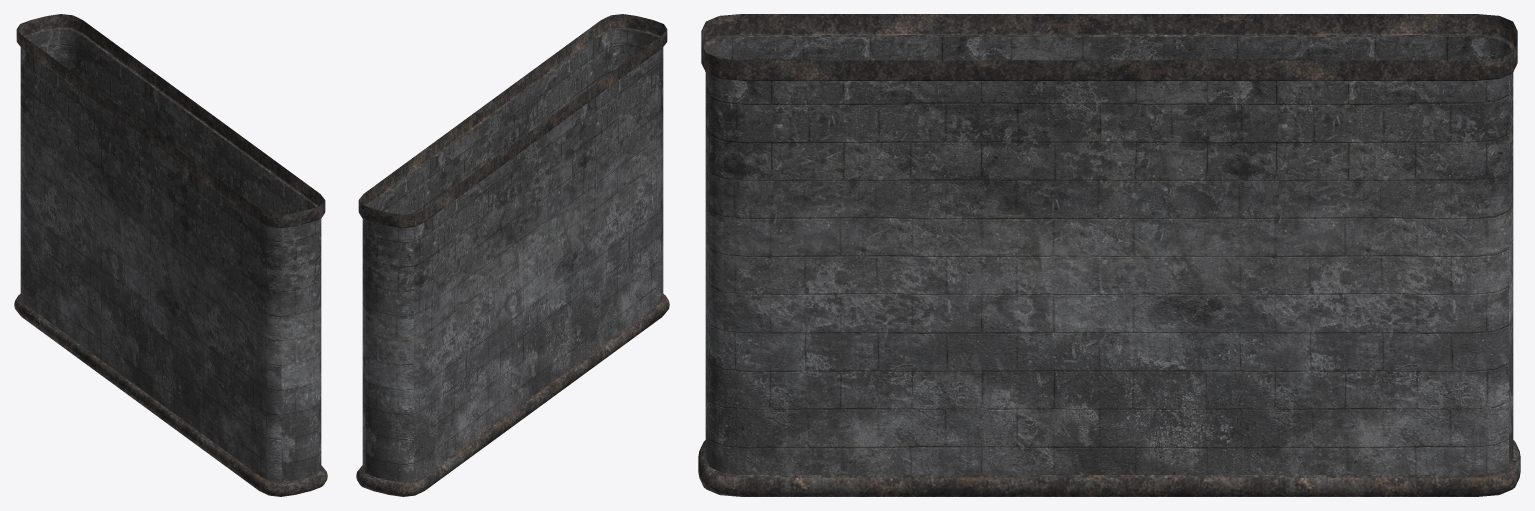
The model's file is BathroomWall_WithoutBottom.FBX.
The picture shows the model from 3 angles, left to right: view 1: azimuth 30°, elevation 25°; view 2: azimuth 150°, elevation 25°; view 3: azimuth 270°, elevation 25°; orthographic projection. The views are drawn at different scales.
Parts seen in each view (by area): view 1: BathroomWall_WithoutBottom; view 2: BathroomWall_WithoutBottom; view 3: BathroomWall_WithoutBottom.
Boxes of the visible parts, bbox=[...] form: BathroomWall_WithoutBottom: bbox=[14, 14, 327, 496]; BathroomWall_WithoutBottom: bbox=[356, 14, 669, 496]; BathroomWall_WithoutBottom: bbox=[698, 14, 1520, 496].
Size of the model in its own units: 11.23 by 47.1 by 80.13.
